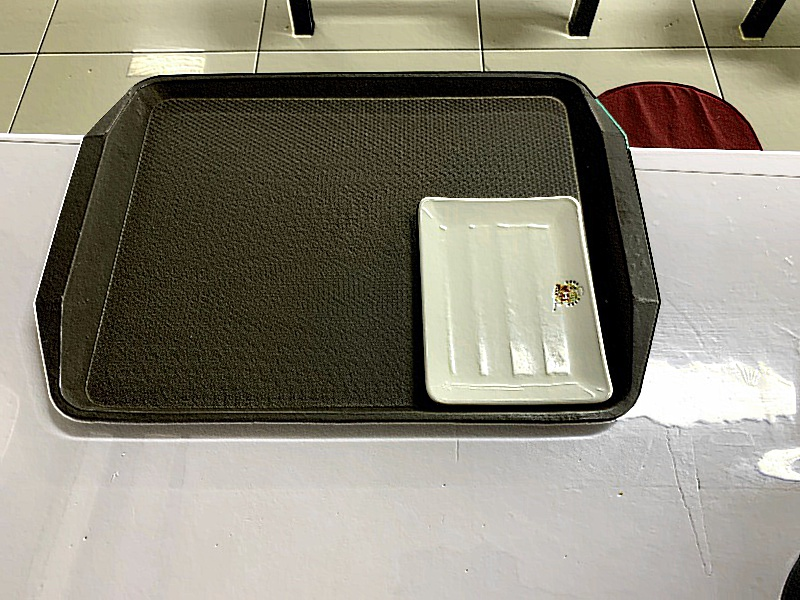dish4: (411, 194, 614, 412)
